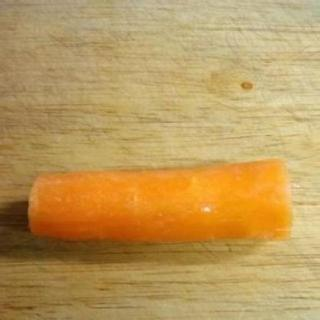carrot: (16, 156, 296, 248)
